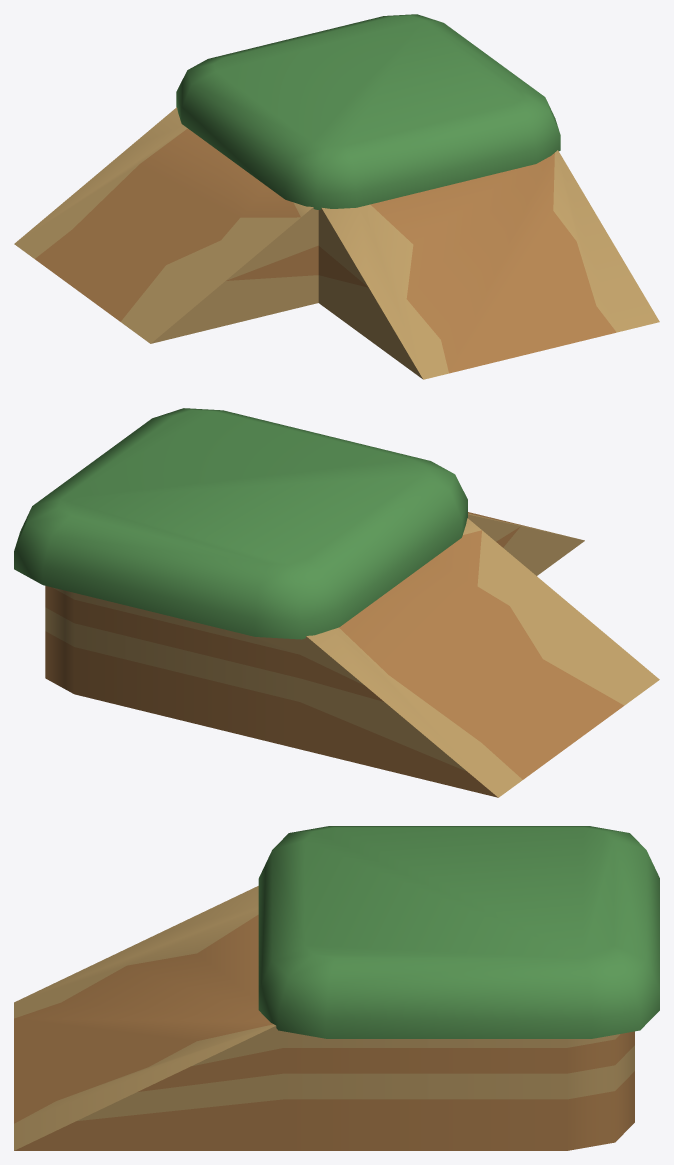
File: Platform_2.fbx
The picture shows the model from 3 angles, top to bottom: view 1: azimuth 30°, elevation 25°; view 2: azimuth 150°, elevation 25°; view 3: azimuth 270°, elevation 25°; orthographic projection. The views are drawn at different scales.
Visible parts, largest first — view 1: Platform_2; view 2: Platform_2; view 3: Platform_2.
Boxes of the visible parts, left/top/right/bottom form: Platform_2: left=14, top=14, right=659, bottom=379; Platform_2: left=14, top=408, right=659, bottom=797; Platform_2: left=14, top=826, right=659, bottom=1150.
Size of the model in its own units: 1037 by 336 by 1071.
